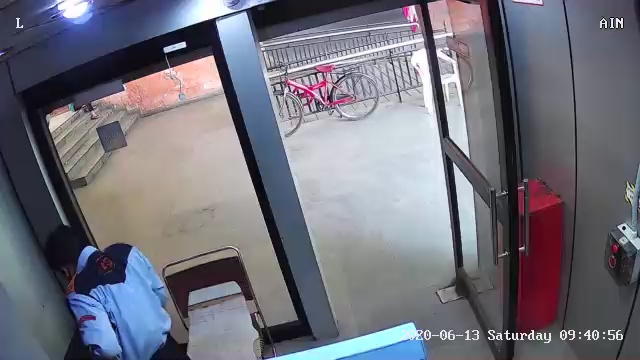open: (232, 5, 535, 356)
